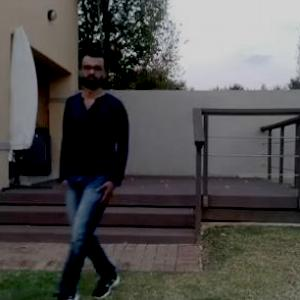follow: (54, 42, 143, 299)
